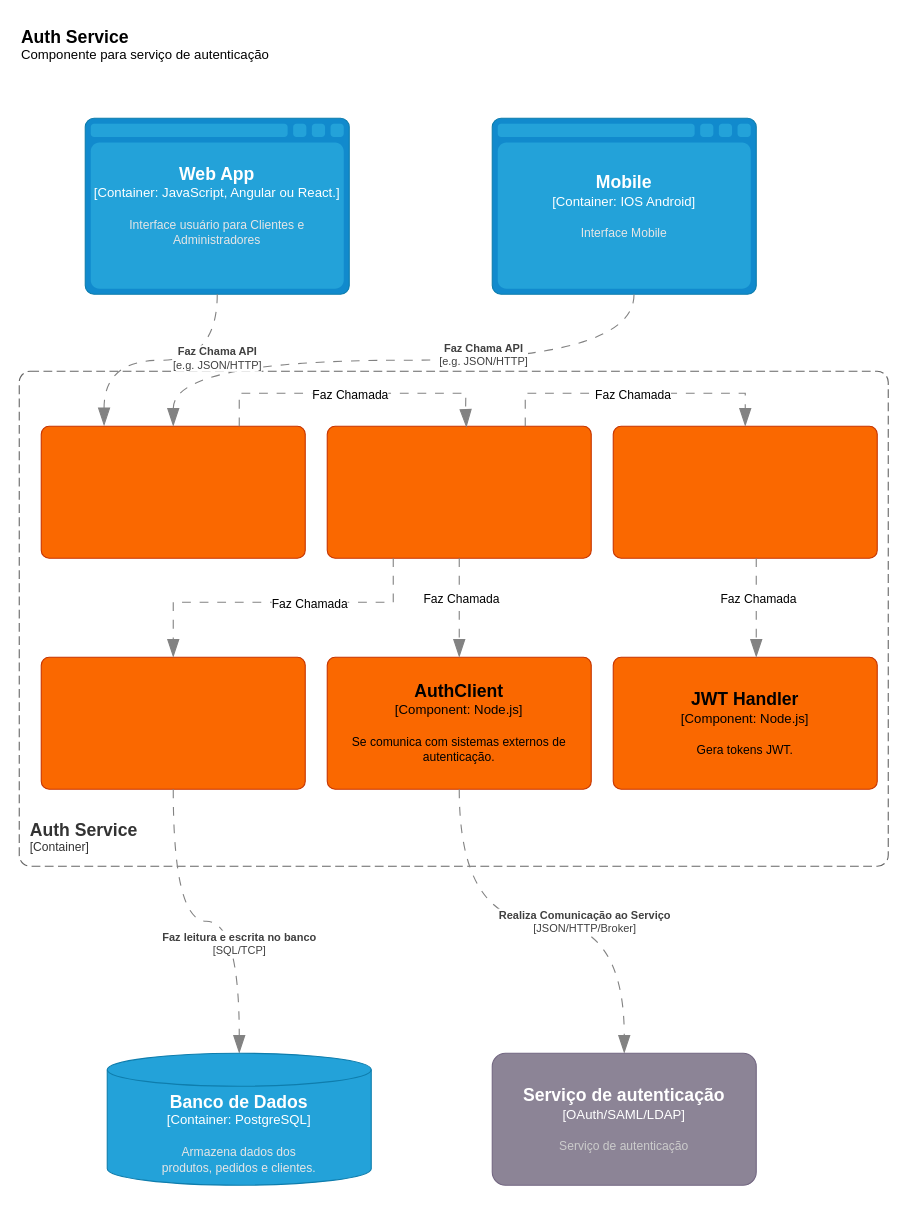
The diagram is 908 pixels wide and 1205 high, and some of its shapes have lost their labels. The box of each missing label's shape, as (x1, y1, x2, y2) in pixels:
AuthController [Component: Node.js] Expõe endpoints REST.: (40, 425, 305, 558)
AuthService [Component: Node.js] Contém a lógica de negócios.: (326, 425, 591, 558)
TokenService [Component: Node.js] Gera e valida tokens JWT.: (612, 425, 877, 558)
UserRepository [Component: Node.js] Acessa o banco de dados de usuários.: (40, 656, 305, 789)
